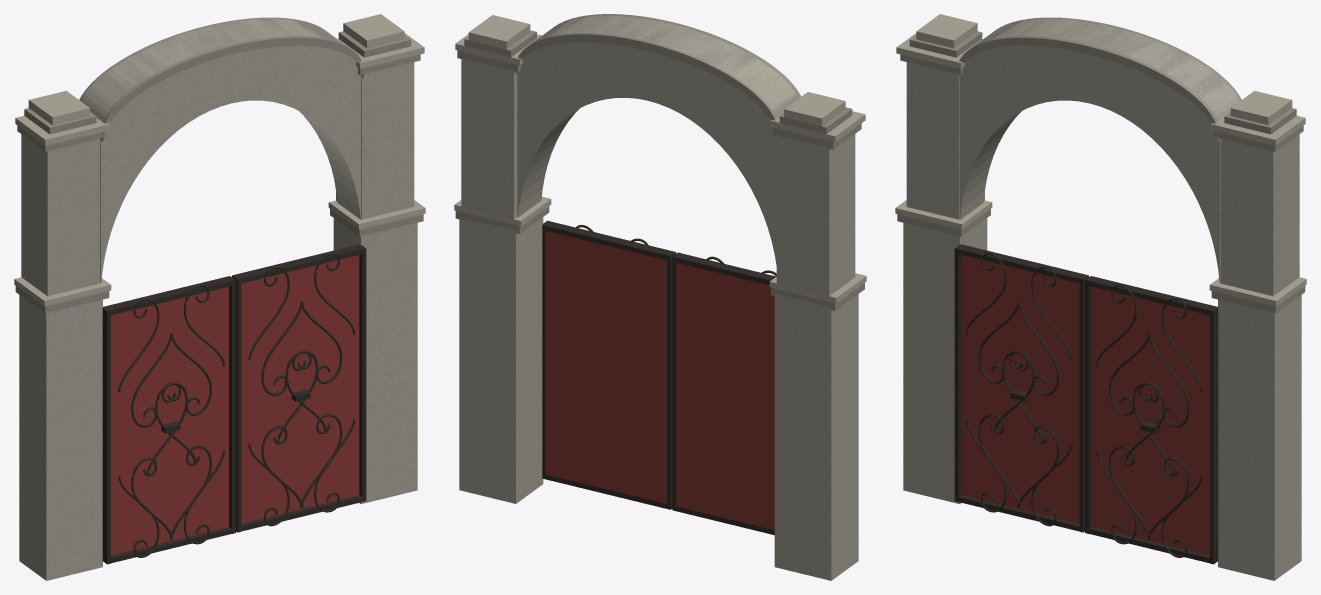
File: huangpu-julu-314-arched-entry-and-ironwork-web.glb
The picture shows the model from 3 angles, left to right: view 1: azimuth 30°, elevation 25°; view 2: azimuth 150°, elevation 25°; view 3: azimuth 330°, elevation 25°; orthographic projection.
Parts seen in each view (by area): view 1: 巨鹿路314号住宅弧券门架与铁花双扇; view 2: 巨鹿路314号住宅弧券门架与铁花双扇; view 3: 巨鹿路314号住宅弧券门架与铁花双扇.
Part boxes in pixels (x1=…): 巨鹿路314号住宅弧券门架与铁花双扇: x1=14, y1=14, x2=425, y2=580; 巨鹿路314号住宅弧券门架与铁花双扇: x1=454, y1=14, x2=866, y2=580; 巨鹿路314号住宅弧券门架与铁花双扇: x1=895, y1=14, x2=1306, y2=580.
Size of the model in its own units: 3.57 by 4.39 by 0.54.
Materials: 5 (1 with a texture image).
